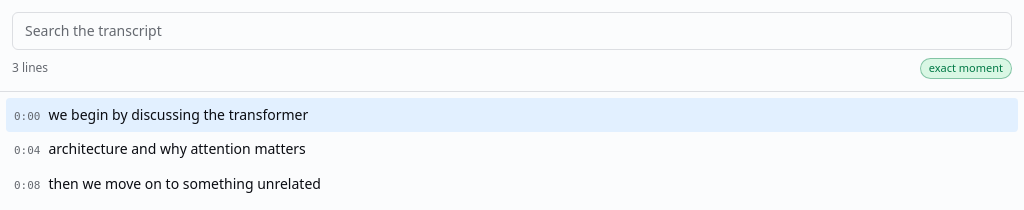
Test: TranscriptPanel › search › says plainly when nothing matches
This screenshot has width=1024, height=210.
In the search field labelled "Search the transcript": (512,31) [12,12,1012,50], type "kubernetes"
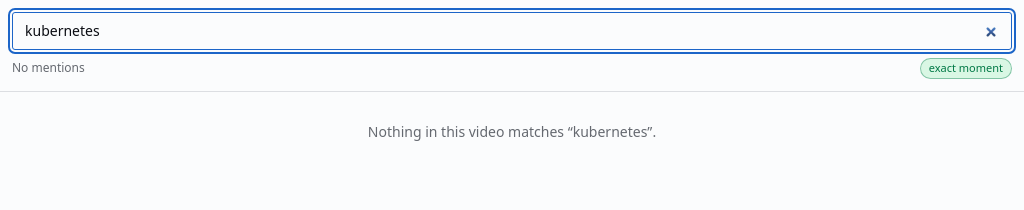
Expected: the list item "Nothing in this video matches “kubernetes”." is shown, [368,122,656,141]
